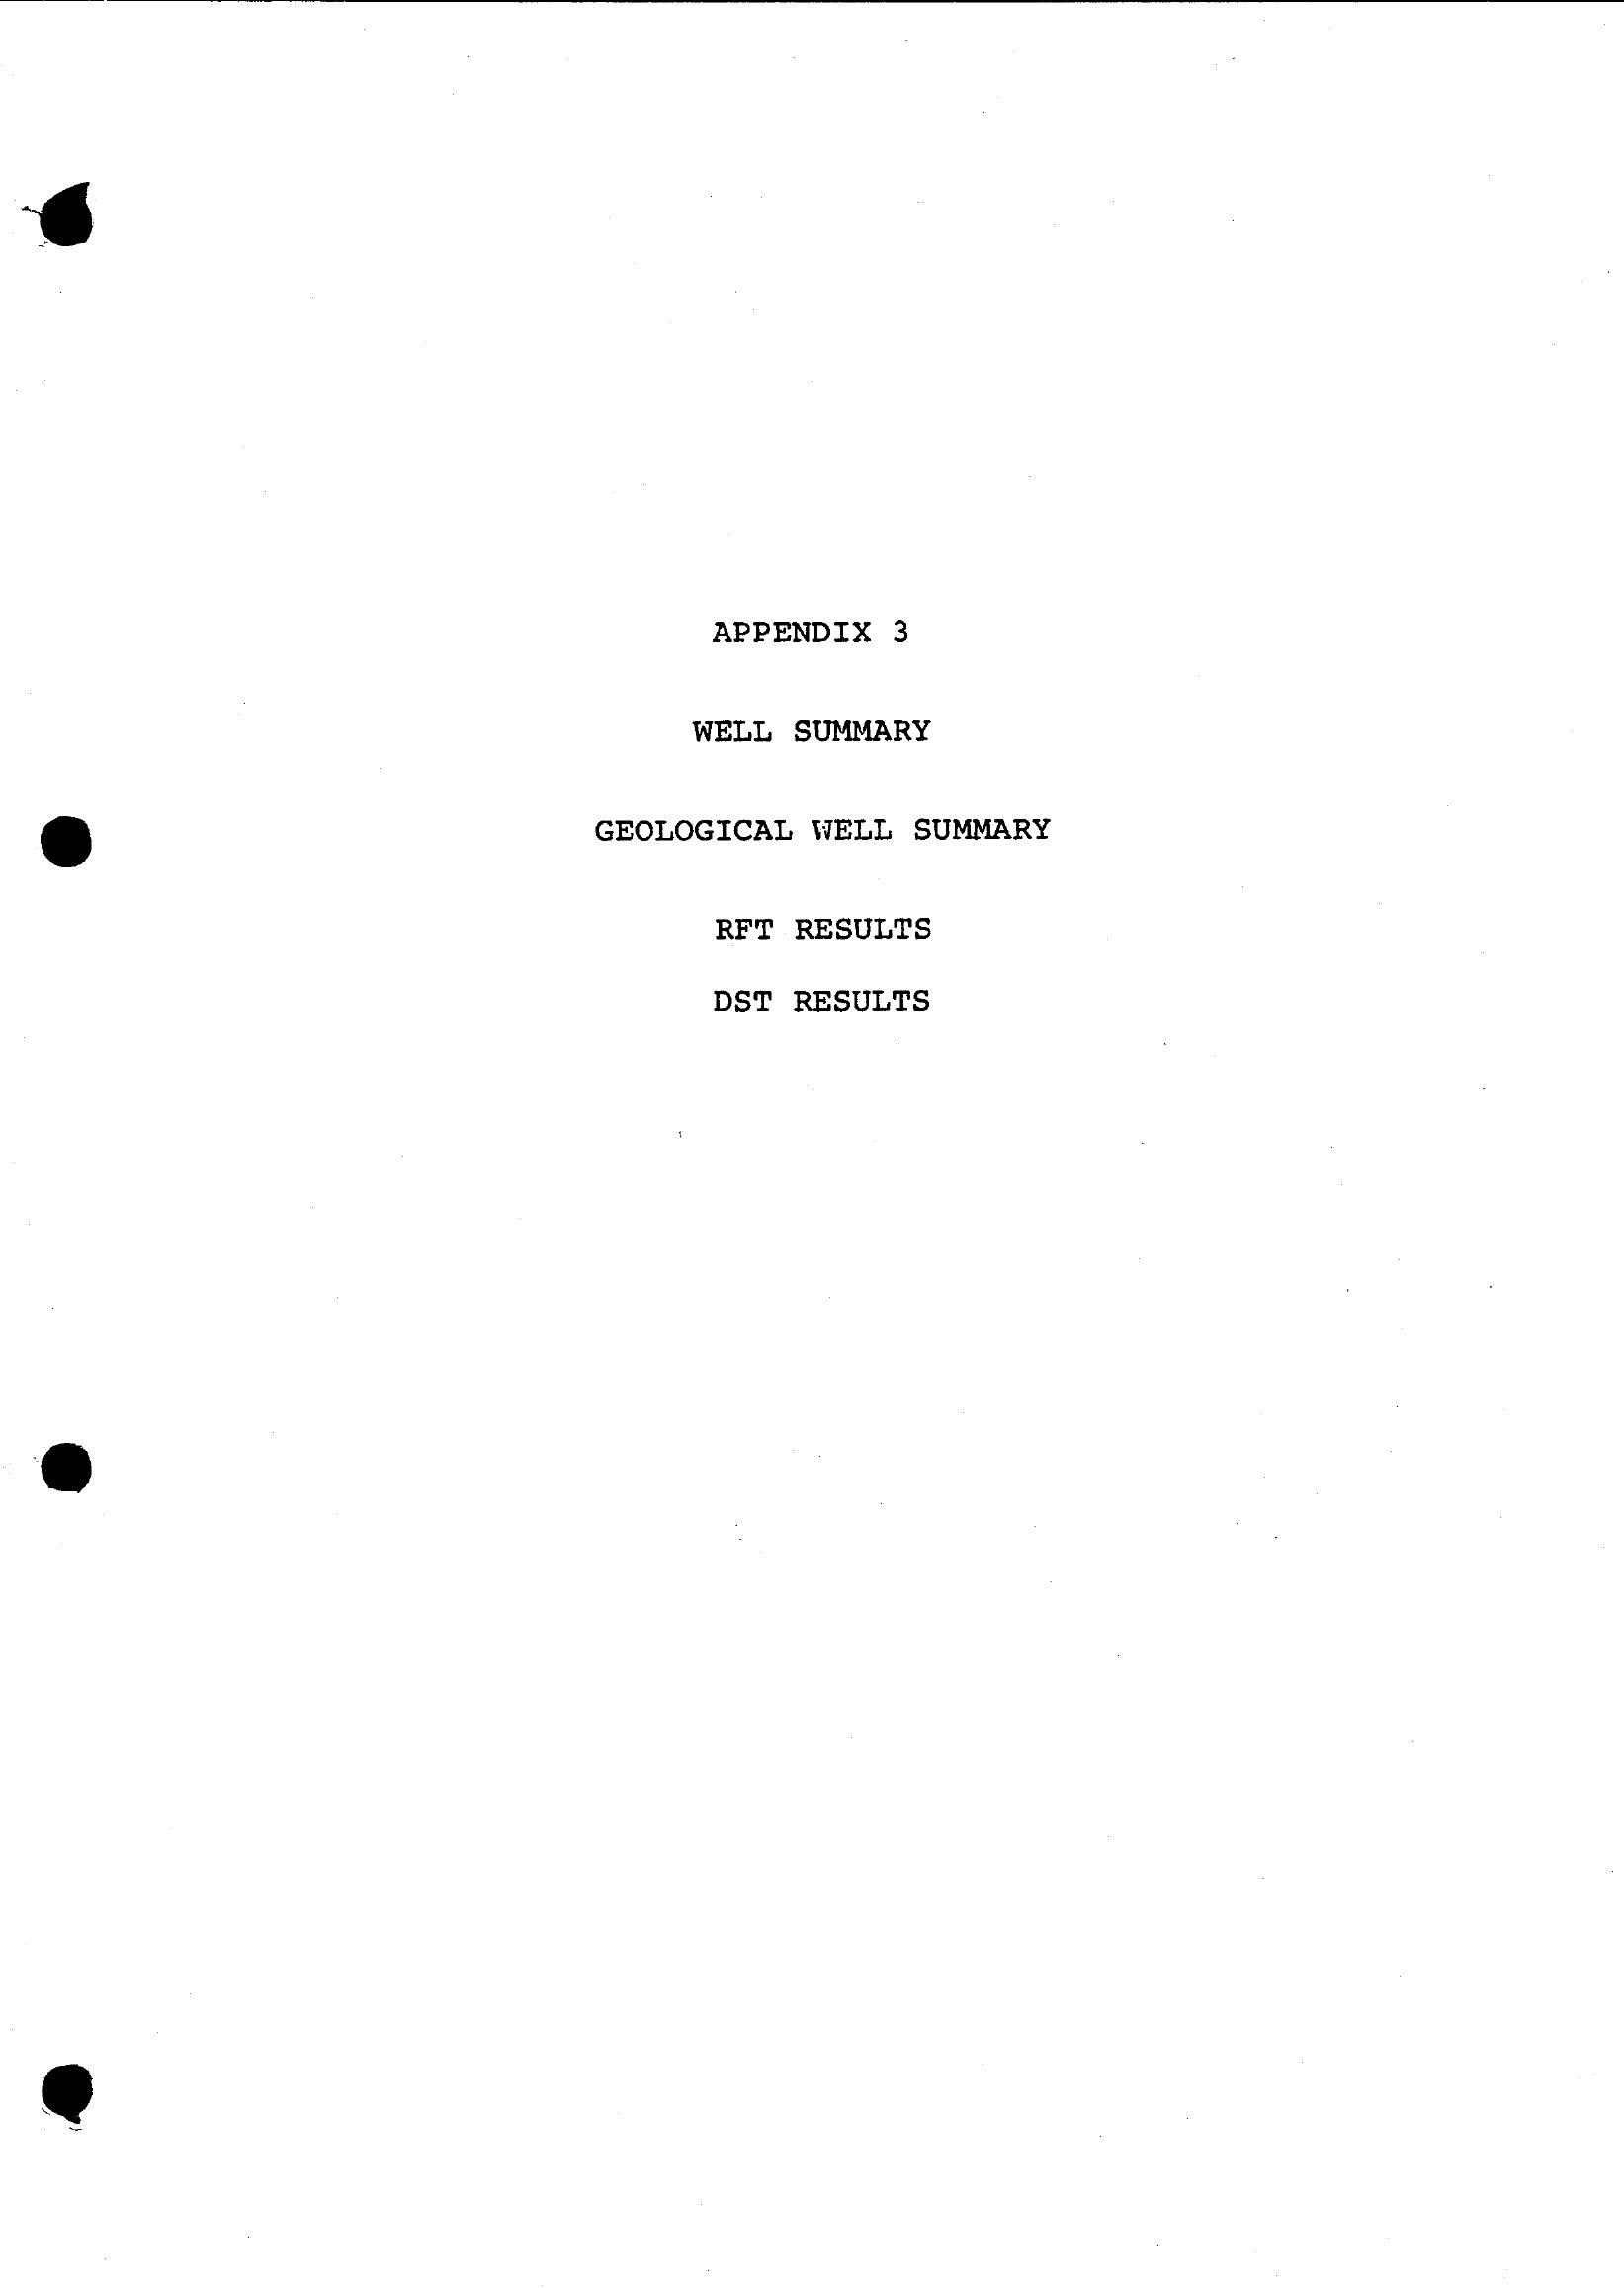text: (524, 566, 1121, 1088)
